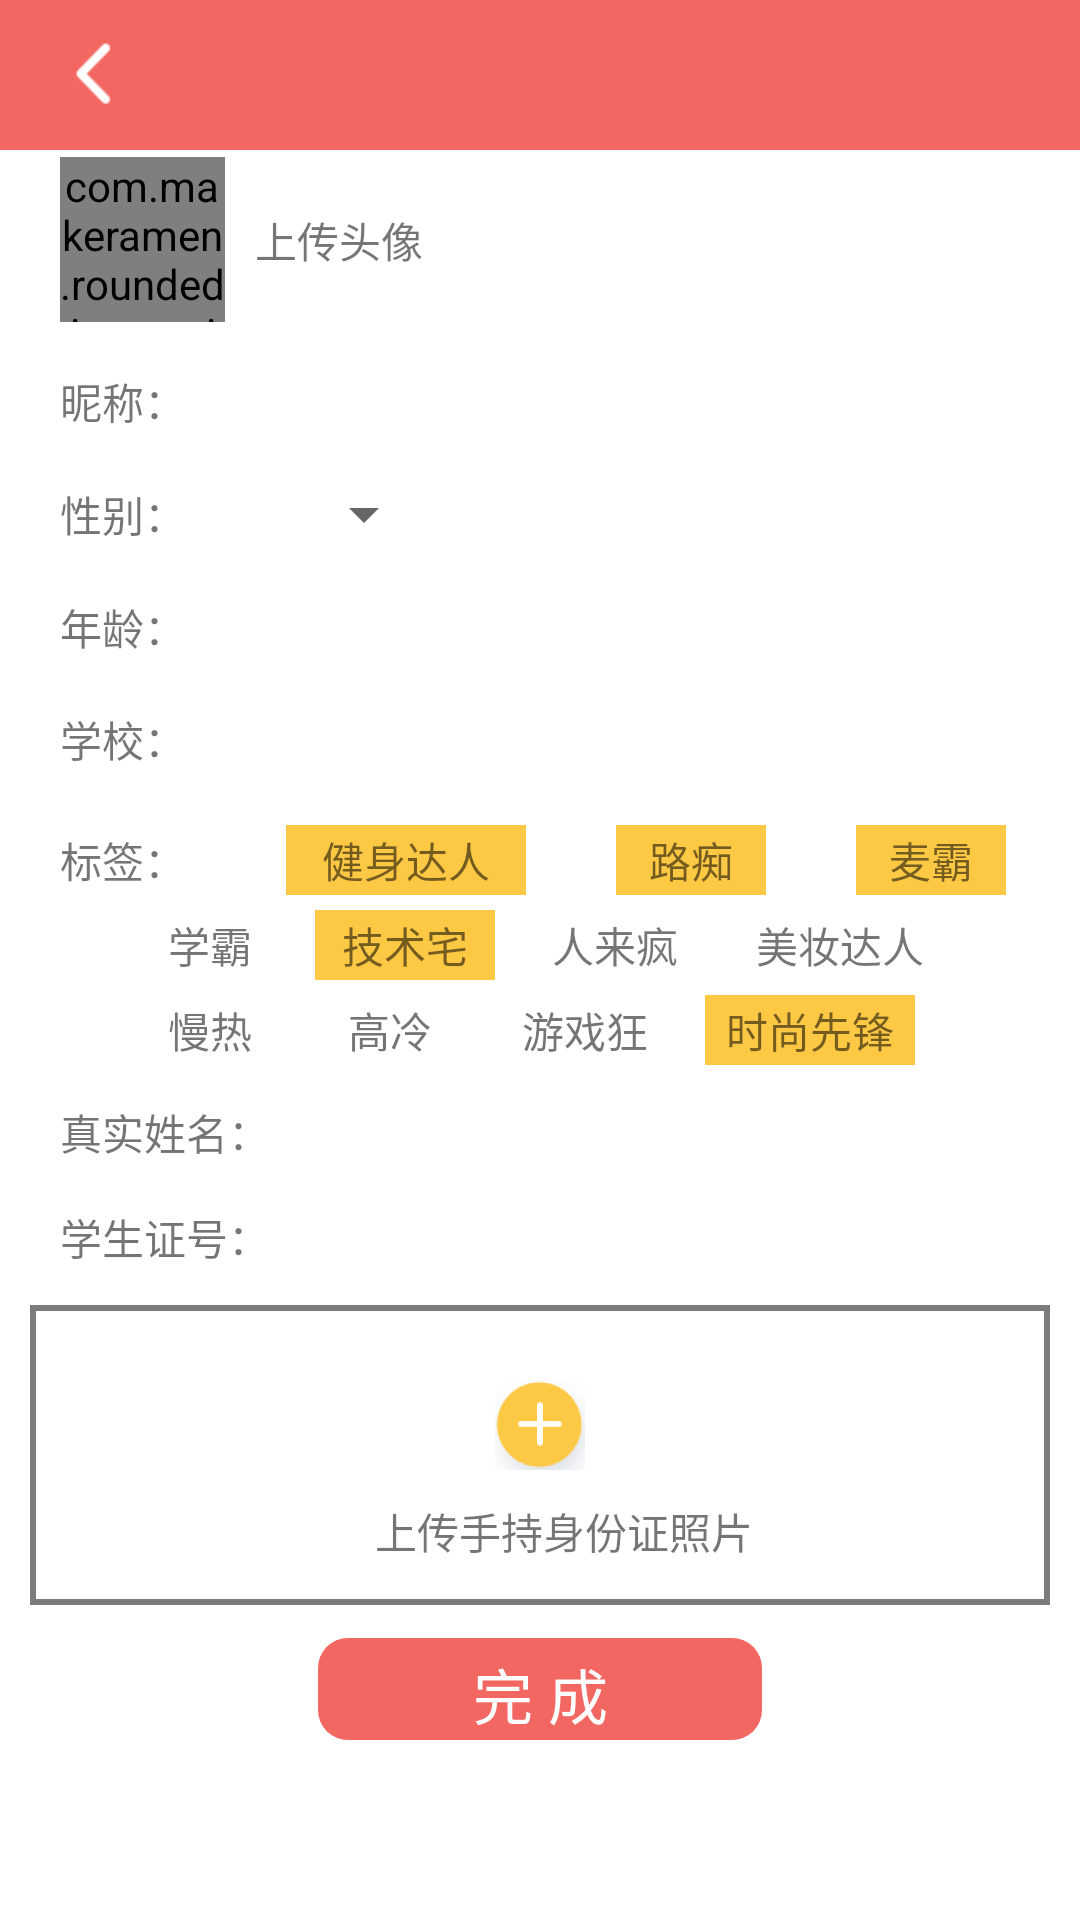

Point at icon controls on the screen. Image size 1080×1920, points as [x,y].
add: [539,1425]
